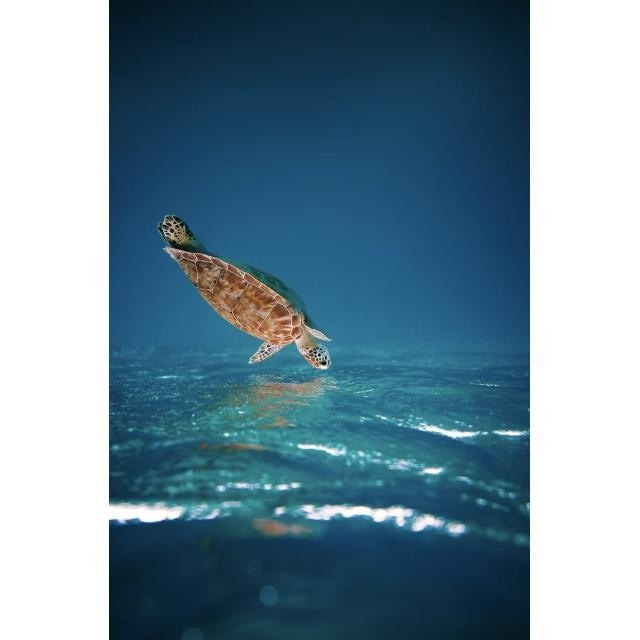turtle: (156, 212, 335, 370)
